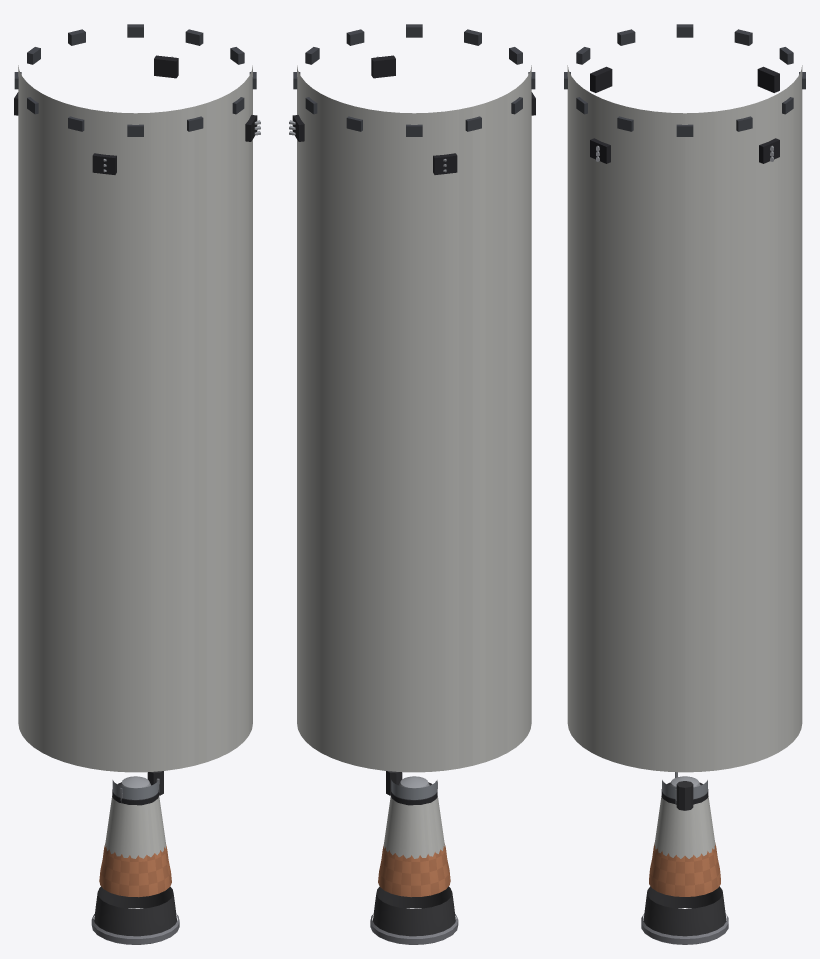
File: upper.hi.glb
The picture shows the model from 3 angles, left to right: view 1: azimuth 30°, elevation 25°; view 2: azimuth 150°, elevation 25°; view 3: azimuth 270°, elevation 25°; orthographic projection.
Visible parts, largest first — view 1: upper.hull, upper.bell, upper.dark, upper.metal; view 2: upper.hull, upper.bell, upper.dark, upper.metal; view 3: upper.hull, upper.bell, upper.dark, upper.metal.
Boxes of the visible parts, x1=… form: upper.hull: x1=18, y1=65, x2=252, y2=858; upper.bell: x1=94, y1=844, x2=176, y2=936; upper.dark: x1=14, y1=24, x2=257, y2=805; upper.metal: x1=91, y1=56, x2=260, y2=944; upper.hull: x1=297, y1=65, x2=531, y2=858; upper.bell: x1=373, y1=844, x2=455, y2=936; upper.dark: x1=292, y1=24, x2=535, y2=805; upper.metal: x1=289, y1=56, x2=458, y2=944; upper.hull: x1=567, y1=65, x2=802, y2=858; upper.bell: x1=643, y1=843, x2=726, y2=936; upper.dark: x1=564, y1=24, x2=805, y2=810; upper.metal: x1=596, y1=145, x2=773, y2=944.
Size of the model in its own units: 3.15 by 12.42 by 3.15.
